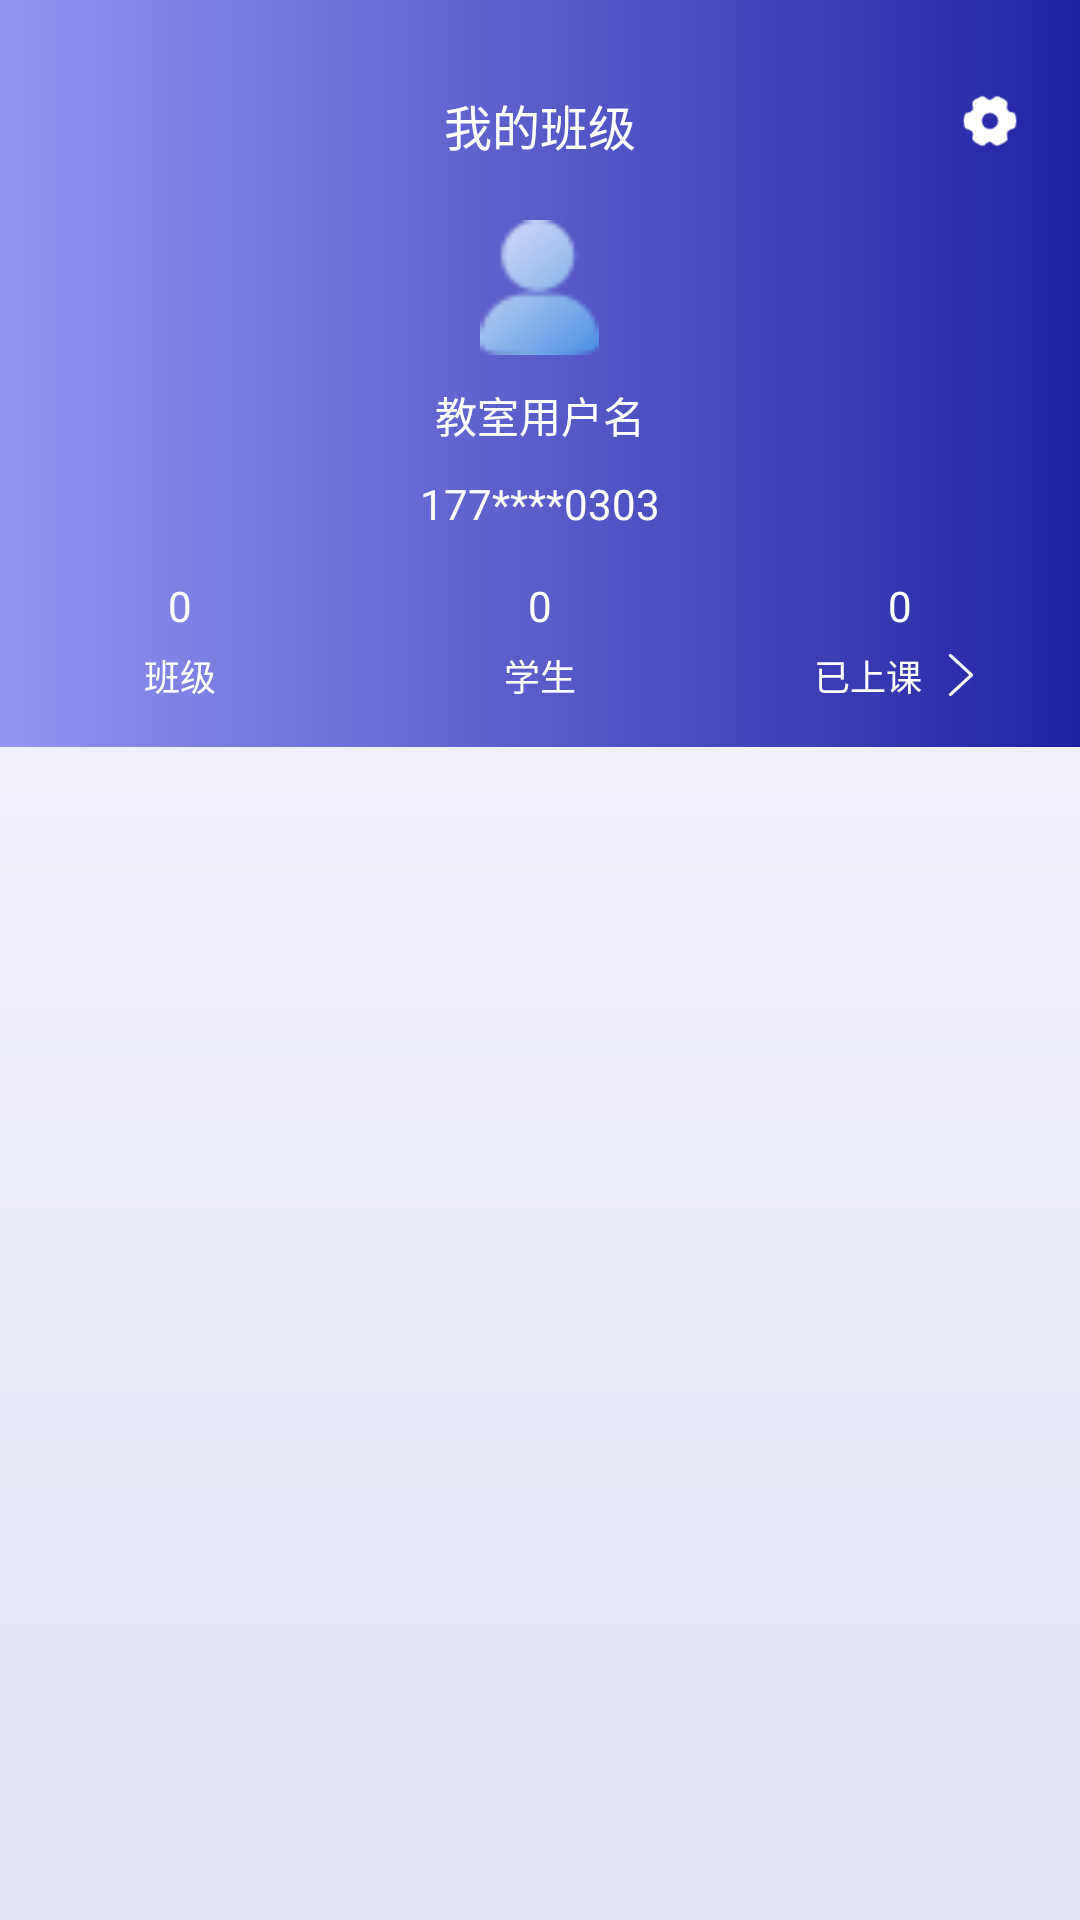

Icon click points for this 1080×1920 phone screenshot, format [x,y]:
head: [539,287]
shezhi: [990,121]
